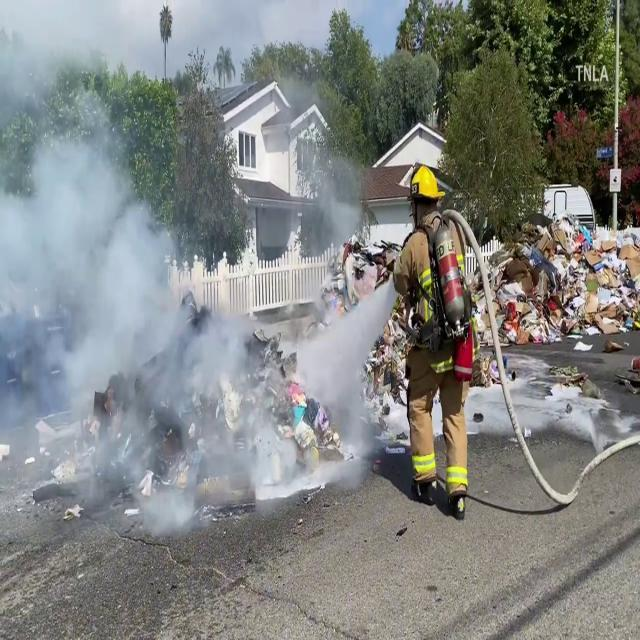Smoke: (0, 82, 274, 526)
